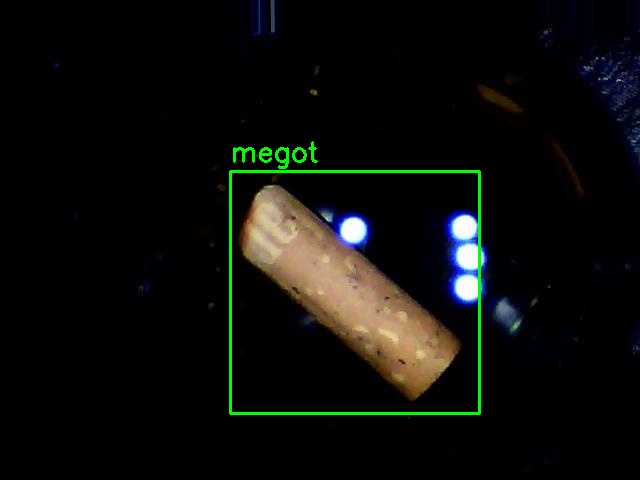megot: (230, 171, 479, 413)
